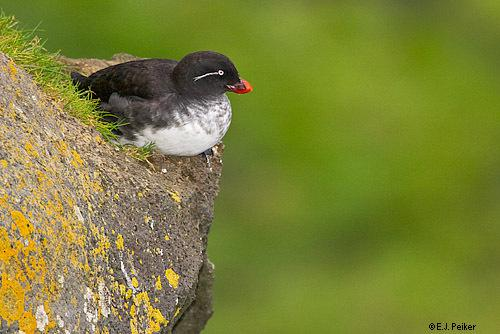007.Parakeet_Auklet: (69, 49, 256, 161)
